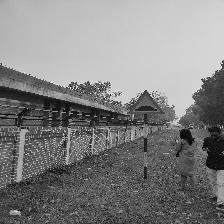Speed-breaker: (128, 82, 162, 116)
